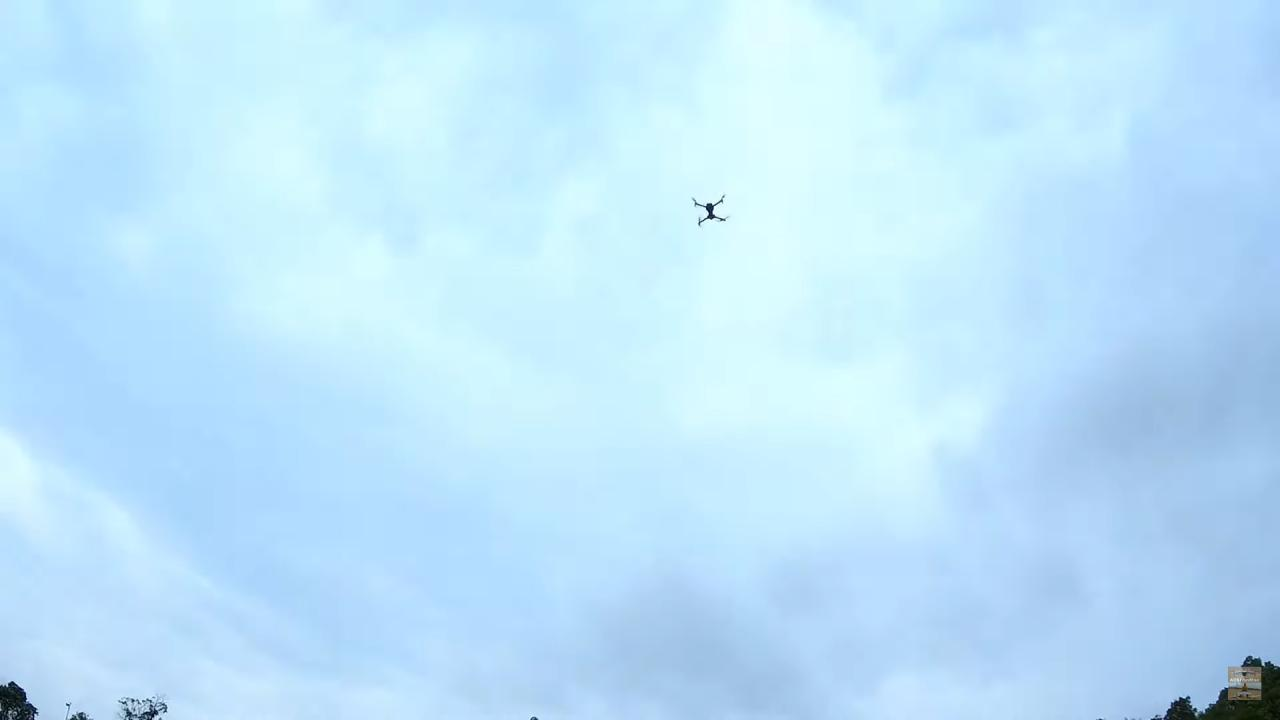Drone: (678, 186, 739, 238)
